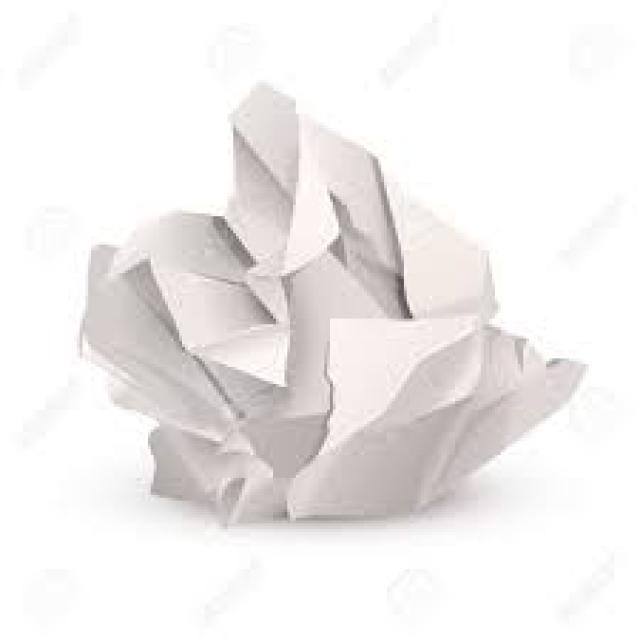Paper: (78, 82, 587, 528)
